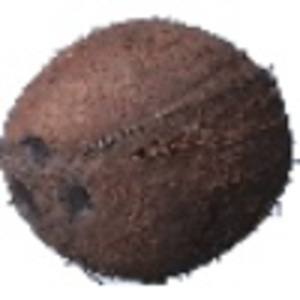coco: (1, 18, 300, 286)
